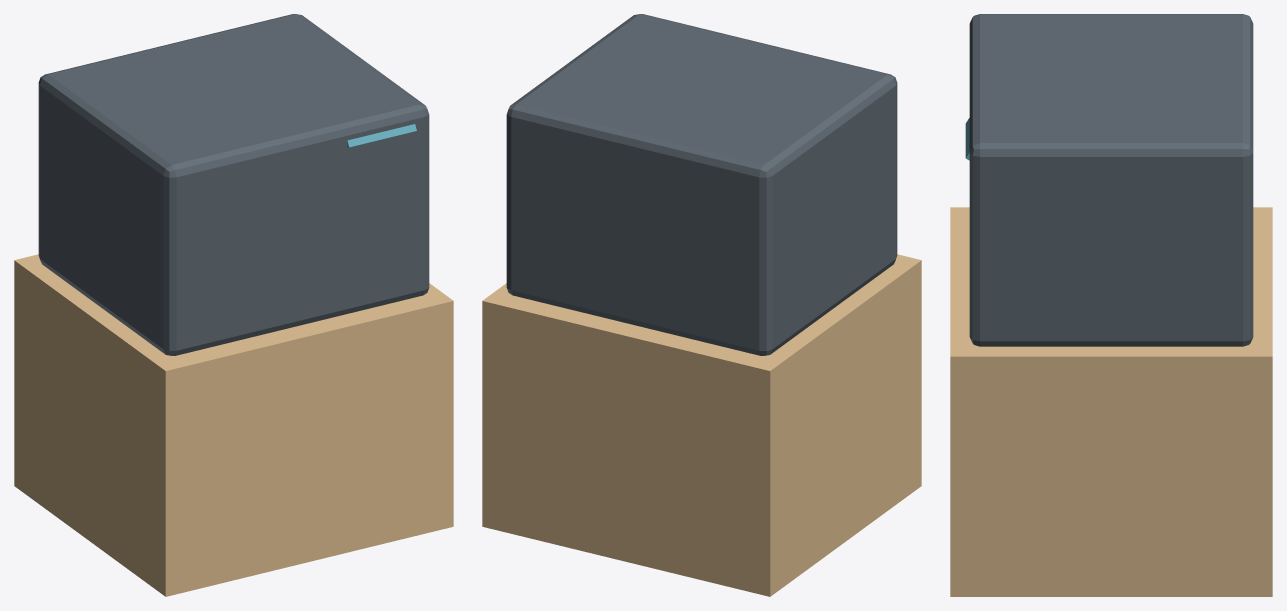
File: ai.printer-cabinet.glb
The picture shows the model from 3 angles, left to right: view 1: azimuth 30°, elevation 25°; view 2: azimuth 150°, elevation 25°; view 3: azimuth 270°, elevation 25°; orthographic projection. The views are drawn at different scales.
Visible parts, largest first — view 1: Hero_Asset; view 2: Hero_Asset; view 3: Hero_Asset.
Boxes of the visible parts, x1,y1,x2,y2 form: Hero_Asset: [14, 14, 453, 596]; Hero_Asset: [482, 14, 921, 596]; Hero_Asset: [950, 14, 1272, 596].
Bounding box in the file's own units: 0.7083 × 0.98 × 0.6458.
